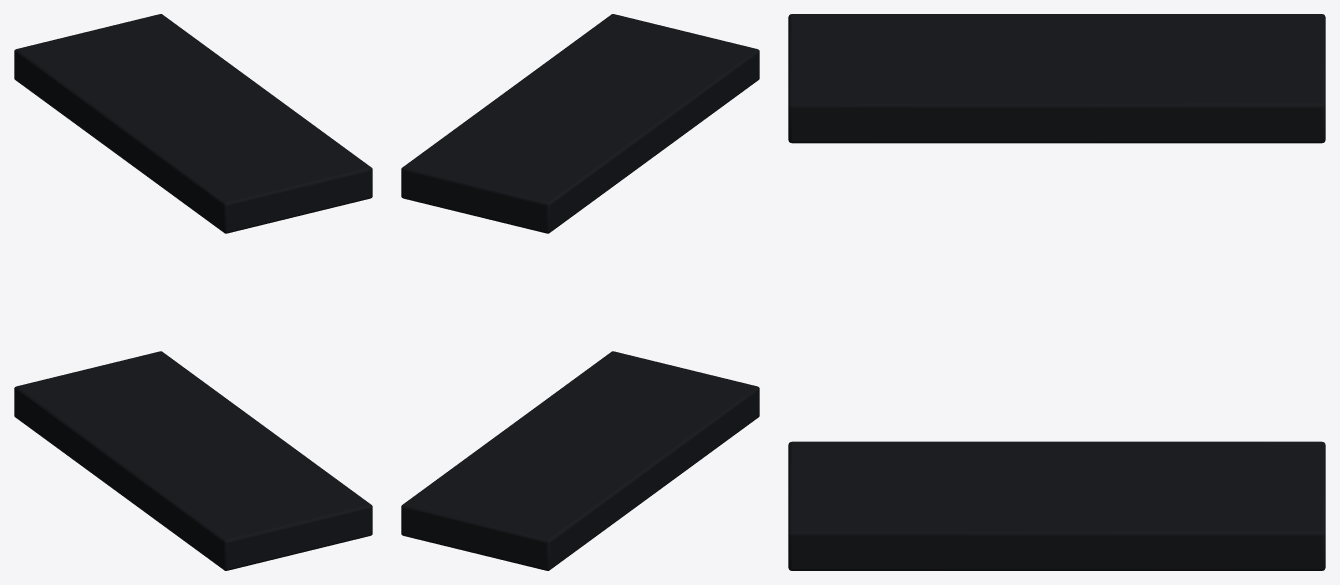
The model's file is caster_swivel_link.obj.
3 views of the same model, side by side, from view 1: azimuth 30°, elevation 25°; view 2: azimuth 150°, elevation 25°; view 3: azimuth 270°, elevation 25° (orthographic). The views are drawn at different scales.
Visible parts, largest first — view 1: caster_swivel_link__fork_cheek_-1, caster_swivel_link__fork_cheek_1; view 2: caster_swivel_link__fork_cheek_-1, caster_swivel_link__fork_cheek_1; view 3: caster_swivel_link__fork_cheek_-1, caster_swivel_link__fork_cheek_1.
Boxes of the visible parts, bbox=[...] form: caster_swivel_link__fork_cheek_-1: bbox=[14, 351, 372, 570]; caster_swivel_link__fork_cheek_1: bbox=[14, 14, 372, 233]; caster_swivel_link__fork_cheek_-1: bbox=[401, 351, 759, 570]; caster_swivel_link__fork_cheek_1: bbox=[401, 14, 759, 233]; caster_swivel_link__fork_cheek_-1: bbox=[788, 441, 1325, 570]; caster_swivel_link__fork_cheek_1: bbox=[788, 14, 1325, 143].
Bounding box in the file's own units: 0.03 × 0.071 × 0.074.
Materials: 1 (1 with a texture image).
